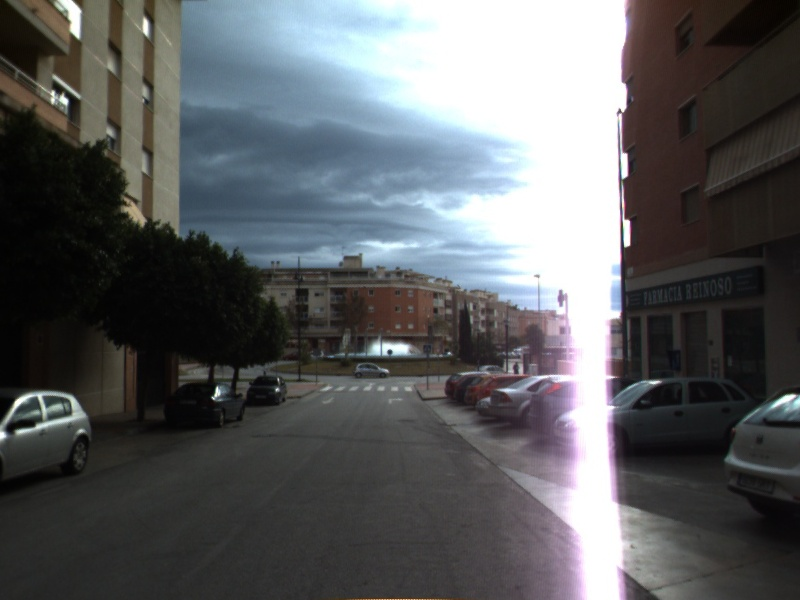RIGHT: (386, 395, 406, 406)
